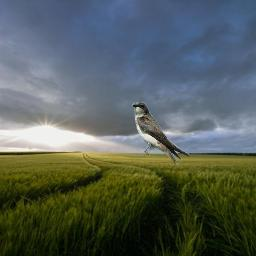Swallow: (132, 102, 190, 165)
